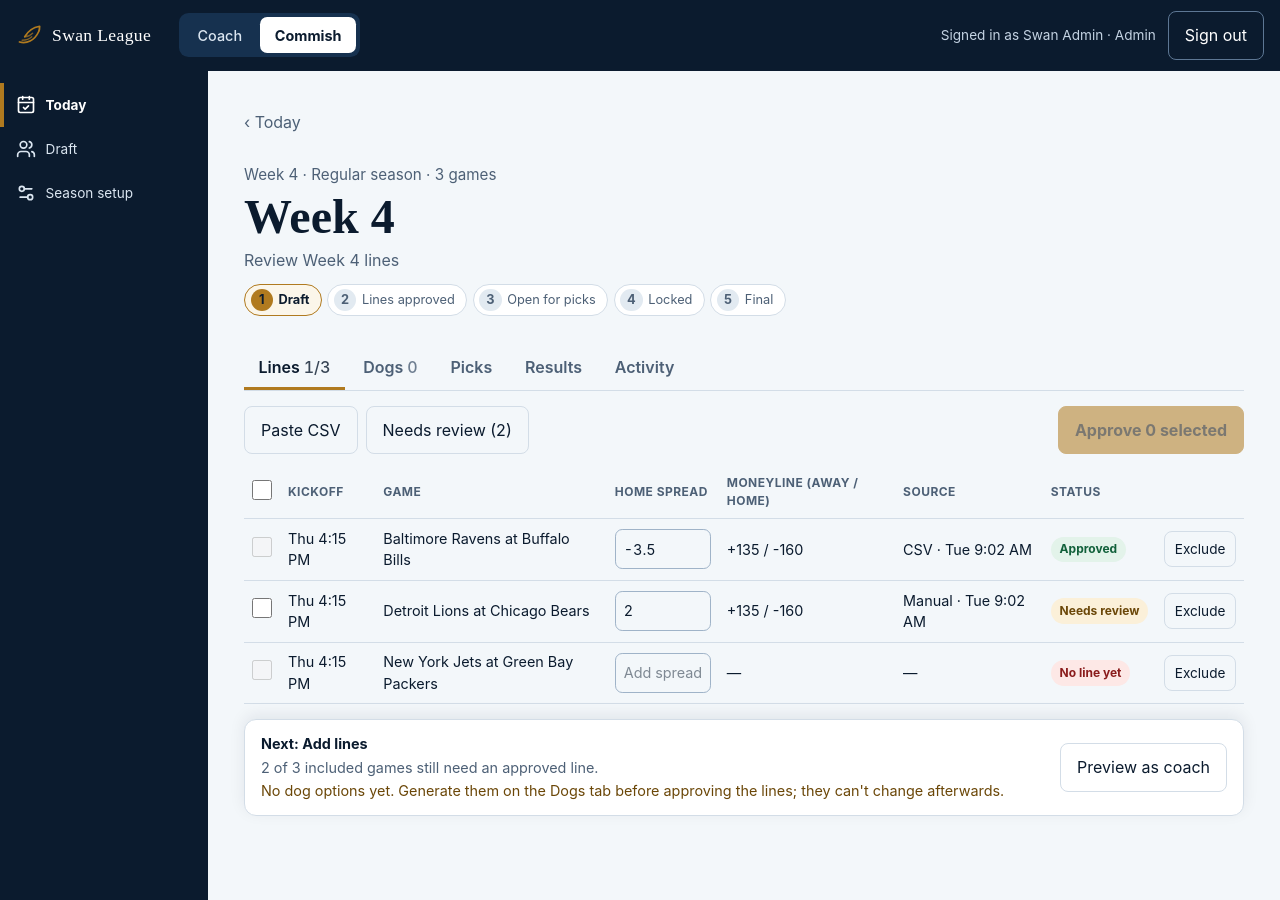
Test case: the needs-review filter hides approved games
Expected: the table named "Lines" is shown, x1=244 y1=466 x2=1244 y2=704
Click the button "Needs review (2)" at (447, 430), box x1=366 y1=406 x2=529 y2=454
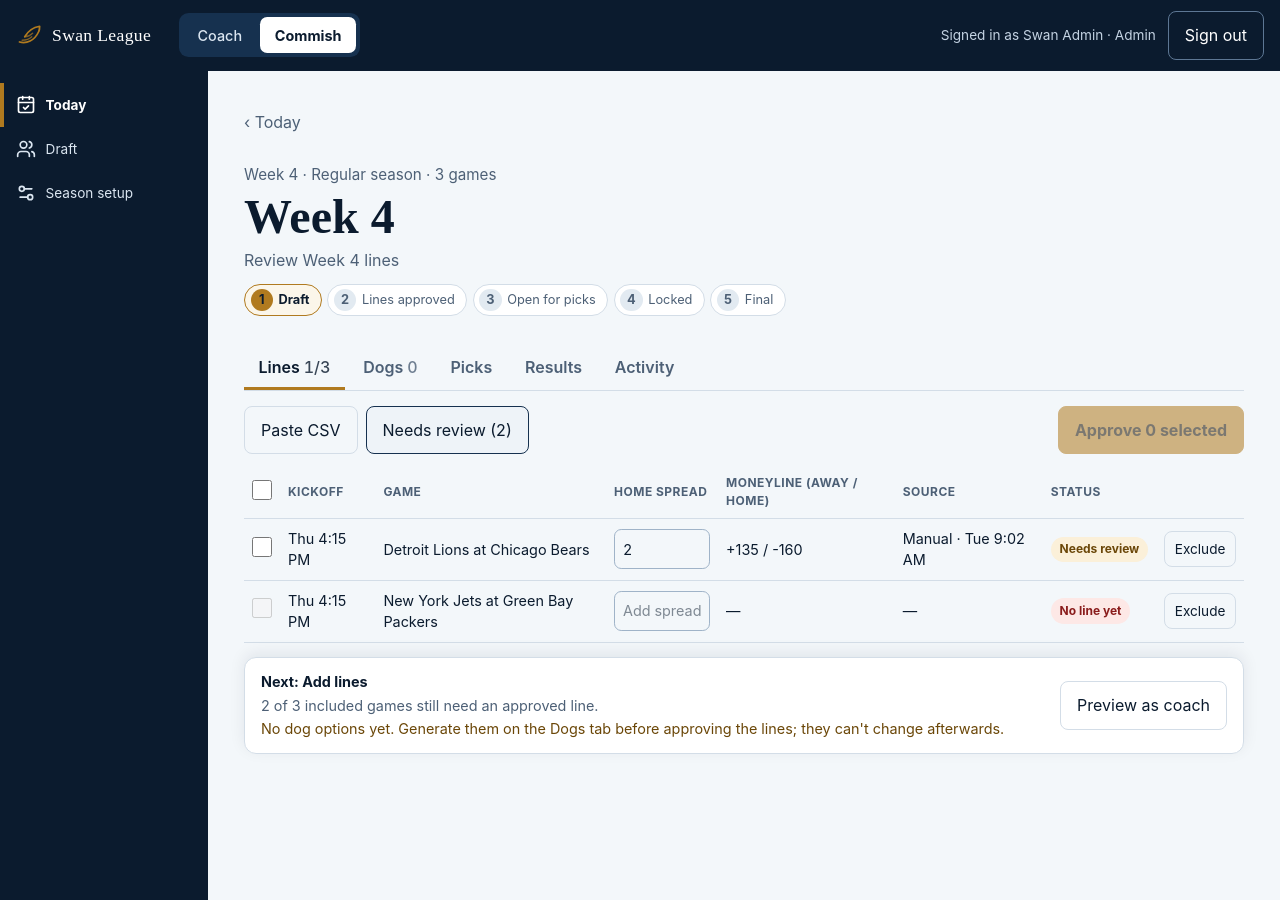
Expected: the row "Detroit Lions at Chicago Bears" is shown, x1=244 y1=518 x2=1244 y2=580
Expected: the cell "Baltimore Ravens at Buffalo Bills" is gone
